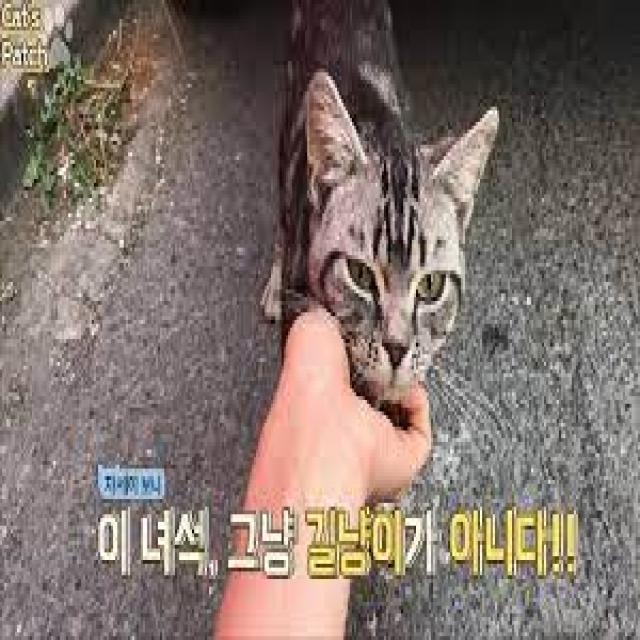cat-face: (266, 78, 514, 444)
